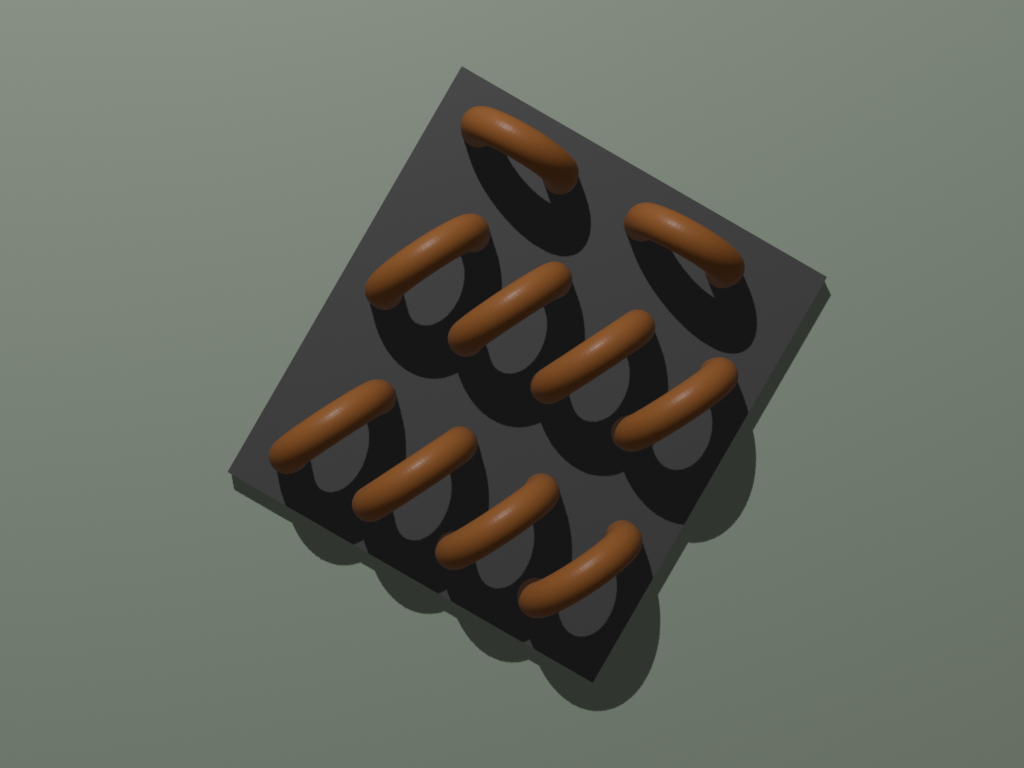return-bend: (245, 349, 422, 500), (333, 403, 510, 554), (337, 182, 514, 333), (420, 230, 597, 381), (500, 284, 677, 435), (410, 445, 586, 596), (494, 496, 670, 647), (581, 332, 757, 483), (435, 75, 613, 221), (598, 166, 776, 312)
